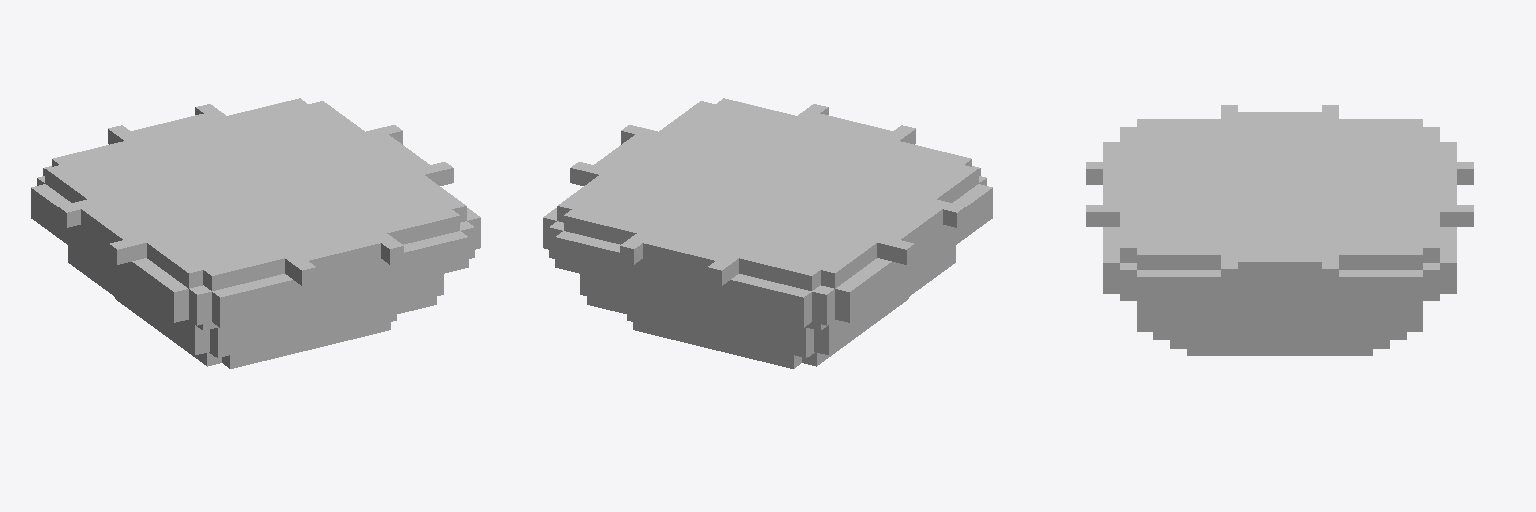
The model's file is platform.obj.
The picture shows the model from 3 angles: view 1: azimuth 30°, elevation 25°; view 2: azimuth 150°, elevation 25°; view 3: azimuth 270°, elevation 25°; orthographic projection.
Visible parts, largest first — view 1: object 1; view 2: object 1; view 3: object 1.
Part boxes in pixels (bbox=[...]): object 1: bbox=[31, 98, 480, 368]; object 1: bbox=[543, 98, 992, 368]; object 1: bbox=[1086, 105, 1473, 355].
Bounding box in the file's own units: 2.3 × 0.9 × 2.3.